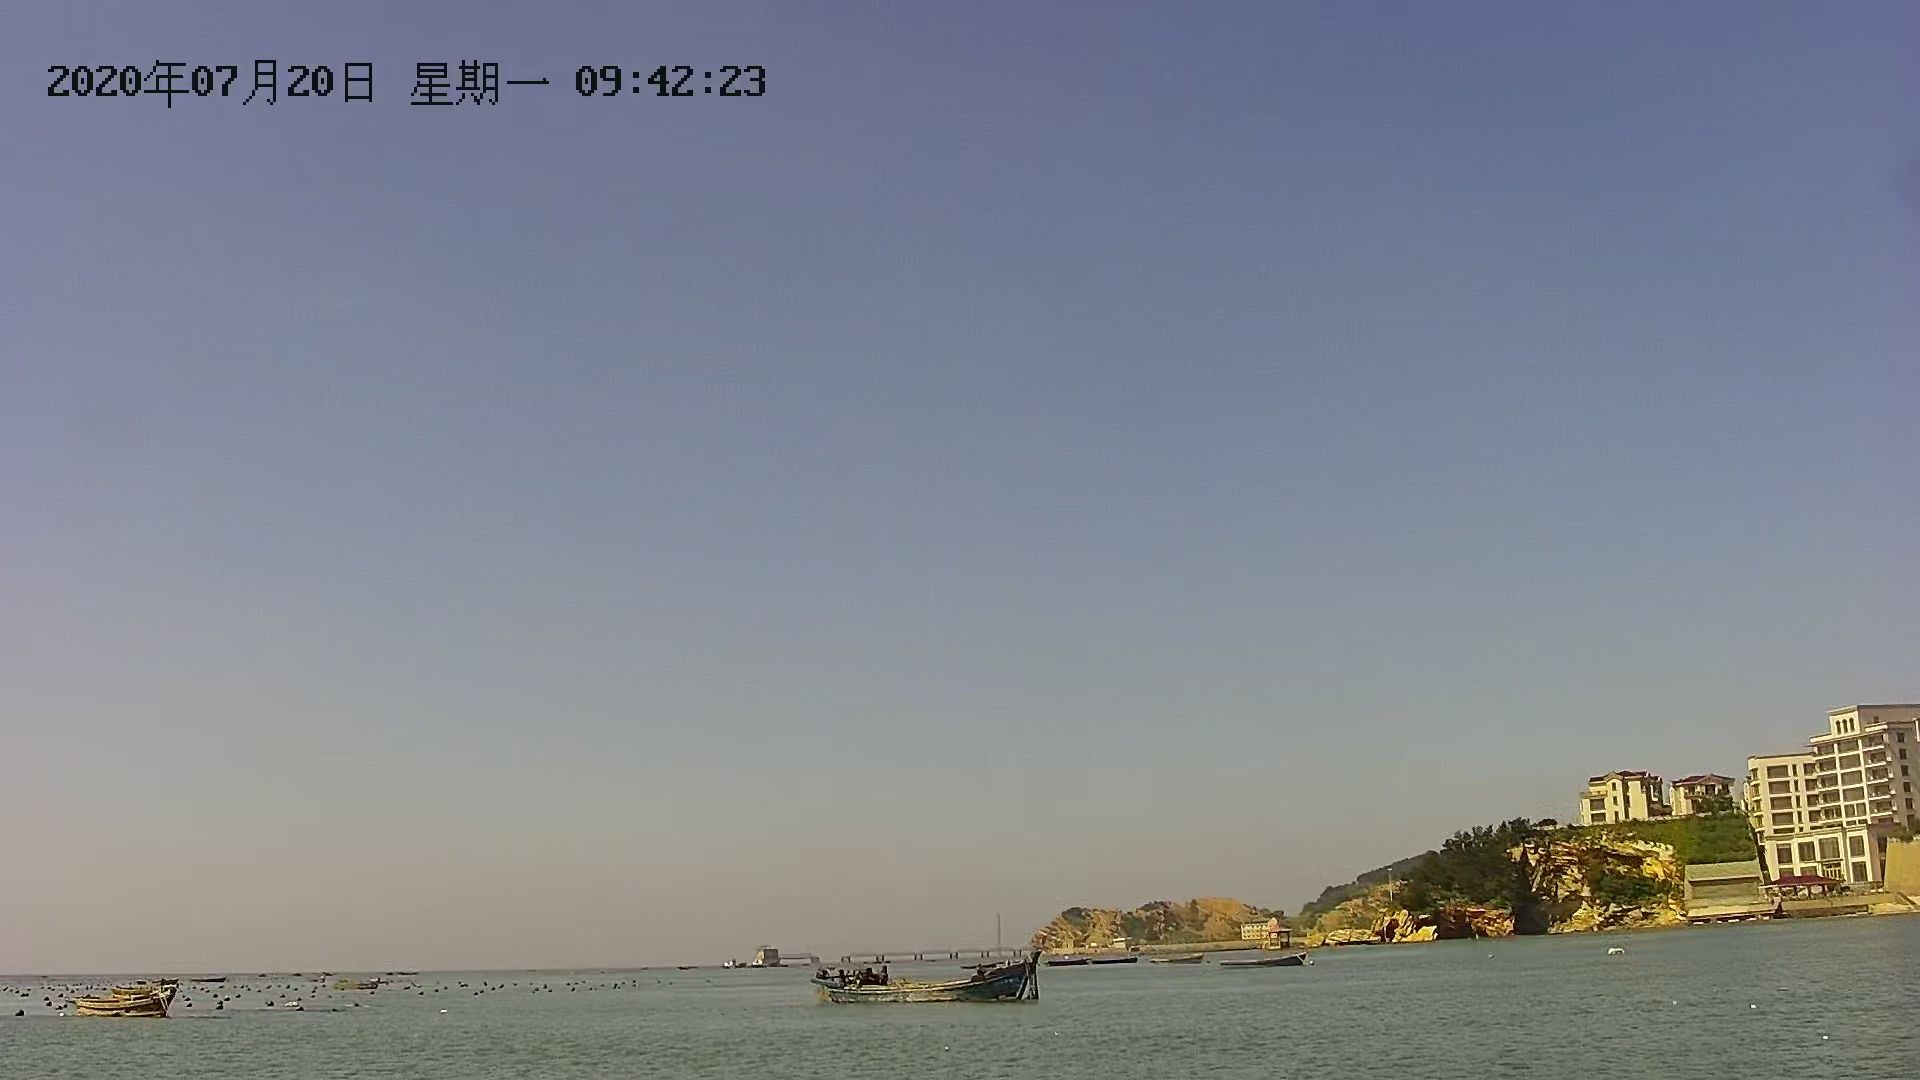boat: (815, 960, 1044, 1001), (69, 992, 178, 1022), (1225, 953, 1312, 969), (328, 978, 382, 993), (1149, 952, 1208, 964)
